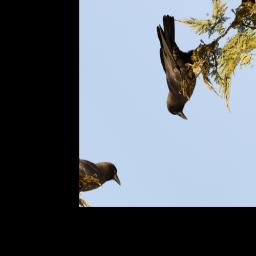Crow: (120, 9, 231, 129)
